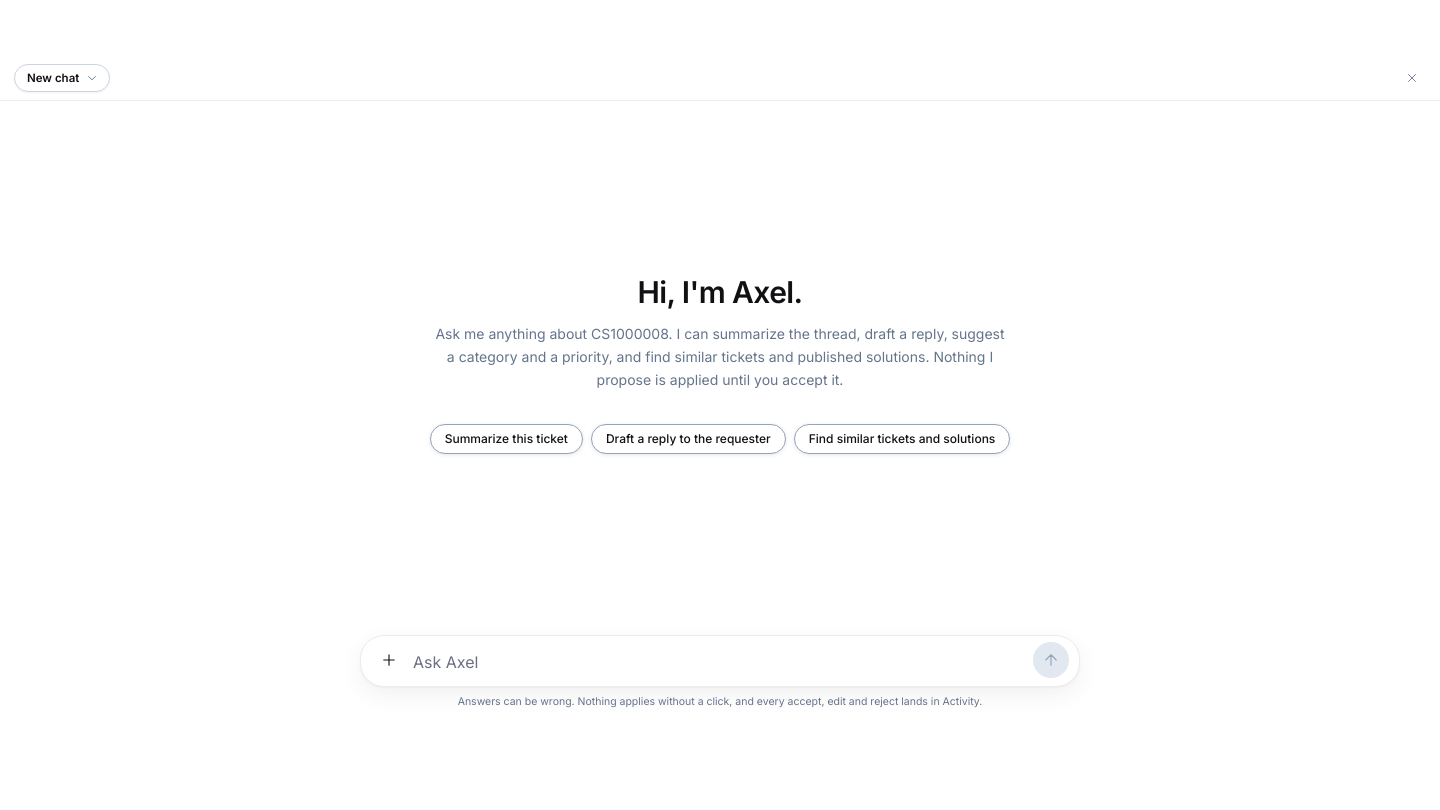
Scenario: AxelChat › sends a quick start as an ordinary message
Click the button "Summarize this ticket": (506, 439) x1=430 y1=424 x2=583 y2=454
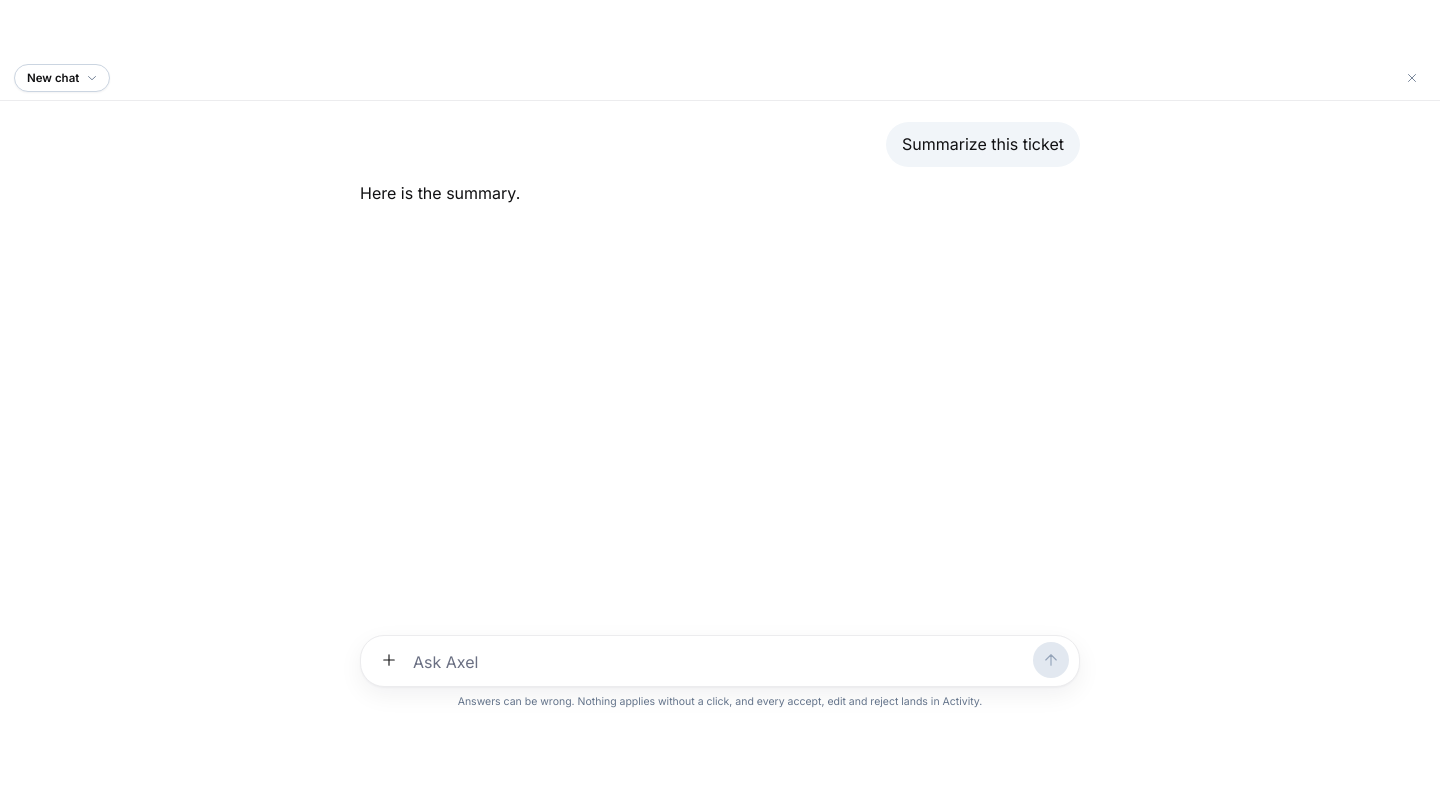
Check: the text "Here is the summary." is shown, box x1=360 y1=183 x2=520 y2=203
